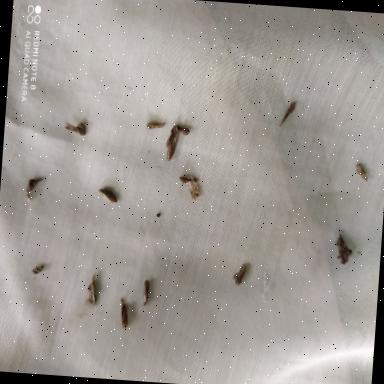pbw: (336, 232, 352, 262), (184, 174, 202, 200), (166, 132, 178, 162), (165, 124, 178, 150), (118, 300, 130, 328), (88, 274, 98, 307), (98, 187, 118, 203), (142, 279, 150, 307)
